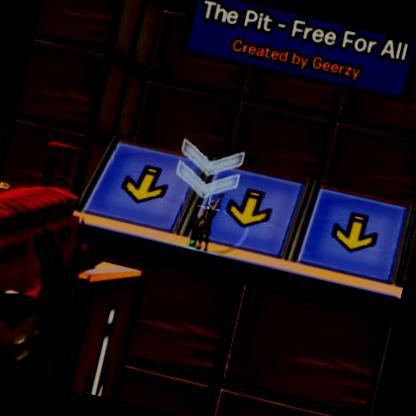person: (196, 197, 222, 250)
